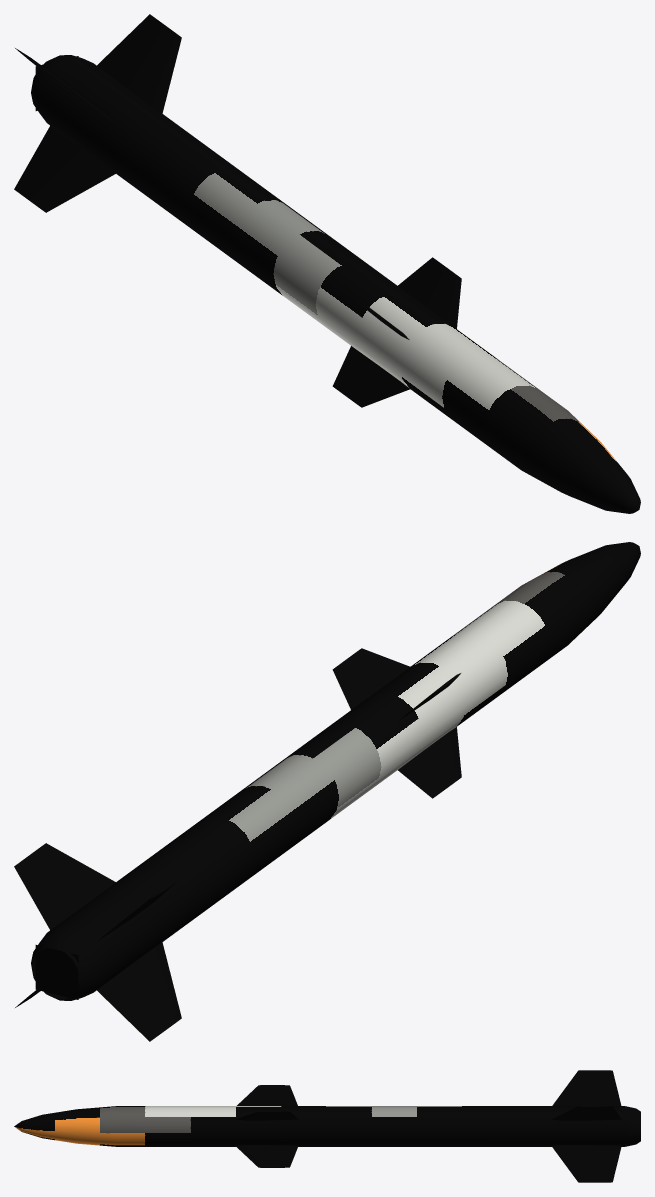
Rendered from interceptor_body.obj.
The picture shows the model from 3 angles, top to bottom: view 1: azimuth 30°, elevation 25°; view 2: azimuth 150°, elevation 25°; view 3: azimuth 270°, elevation 25°; orthographic projection. The views are drawn at different scales.
Size of the model in its own units: 0.545 by 0.545 by 4.
